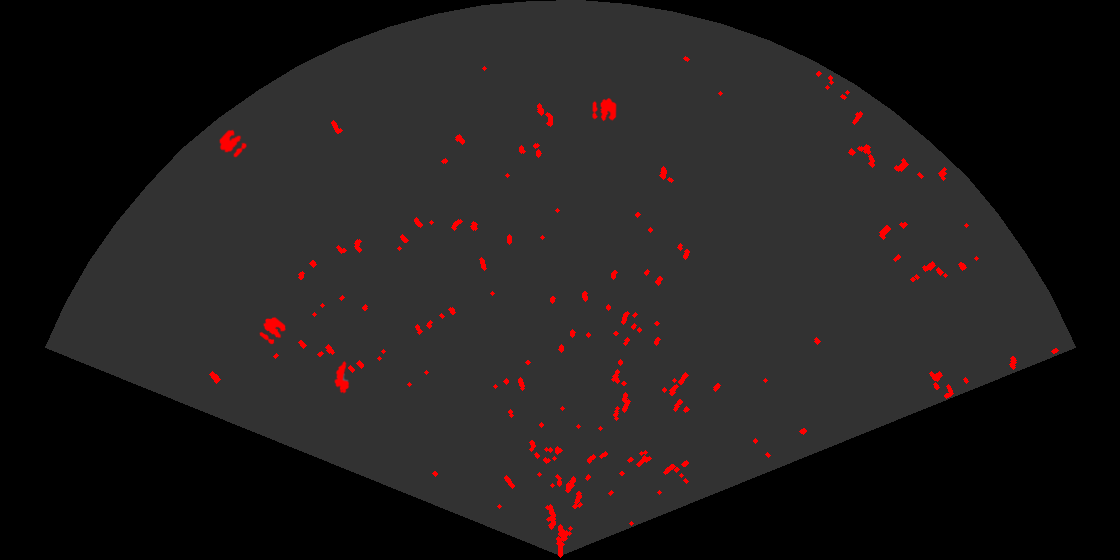AUV: (333, 359, 351, 395)
ball: (218, 128, 248, 159), (258, 315, 287, 346), (591, 97, 618, 123)
